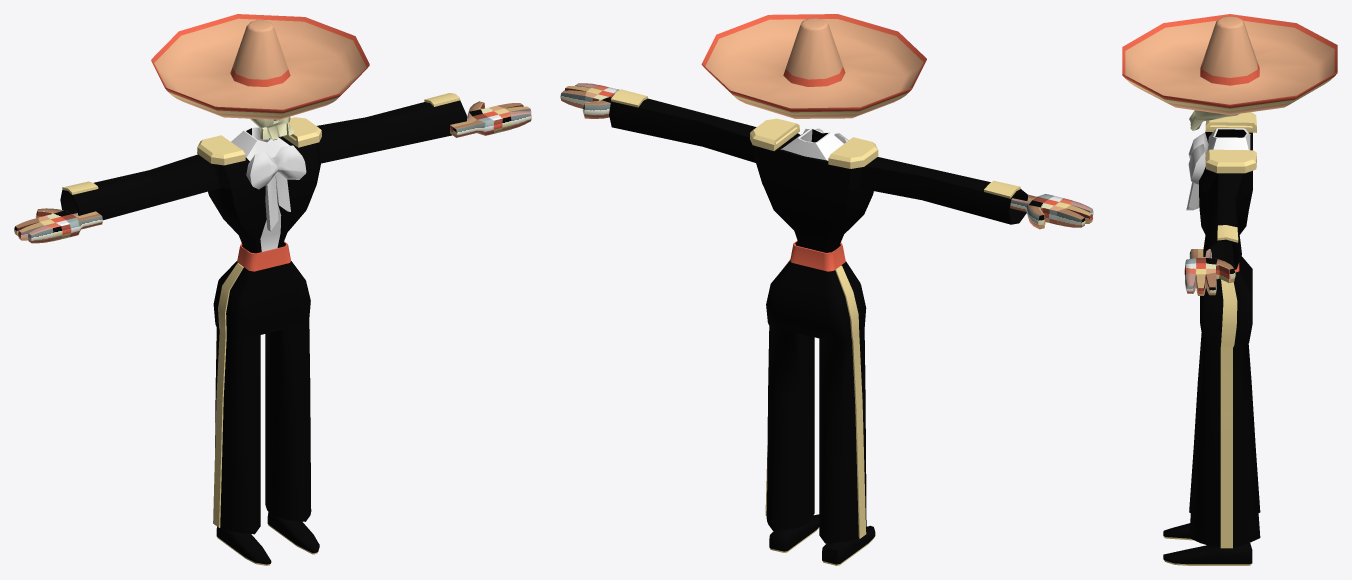
Rendered from KM_Skeleton2.FBX.
3 renders of one model, left to right at view 1: azimuth 30°, elevation 25°; view 2: azimuth 150°, elevation 25°; view 3: azimuth 270°, elevation 25°, orthographic. The views are drawn at different scales.
Visible parts, largest first — view 1: Box007, Box014, Sombrero, L_HAND, Box010, SKULL; view 2: Box007, Box014, Sombrero, L_HAND; view 3: Box007, Sombrero, Box014, L_HAND, Box010, SKULL.
Boxes of the visible parts, <box> form: Box007: <box>213,241,319,565</box>; Box014: <box>60,93,466,253</box>; Sombrero: <box>151,14,369,119</box>; L_HAND: <box>14,101,531,243</box>; Box010: <box>246,145,306,231</box>; SKULL: <box>249,117,293,140</box>; Box007: <box>765,240,875,565</box>; Box014: <box>609,89,1027,252</box>; Sombrero: <box>701,14,926,118</box>; L_HAND: <box>560,83,1093,229</box>; Box007: <box>1163,256,1260,565</box>; Sombrero: <box>1122,14,1337,114</box>; Box014: <box>1199,112,1256,269</box>; L_HAND: <box>1184,249,1235,295</box>; Box010: <box>1186,133,1208,210</box>; SKULL: <box>1189,110,1239,130</box>.
Bounding box in the file's own units: 0.8065 × 0.7703 × 0.2851.
